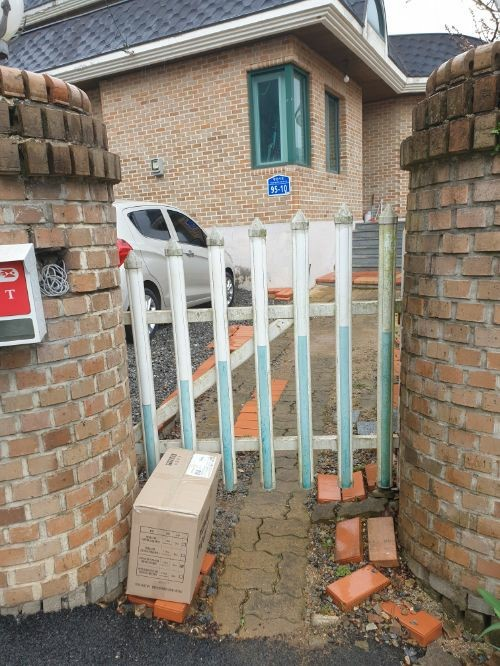undamaged: (124, 444, 228, 604)
